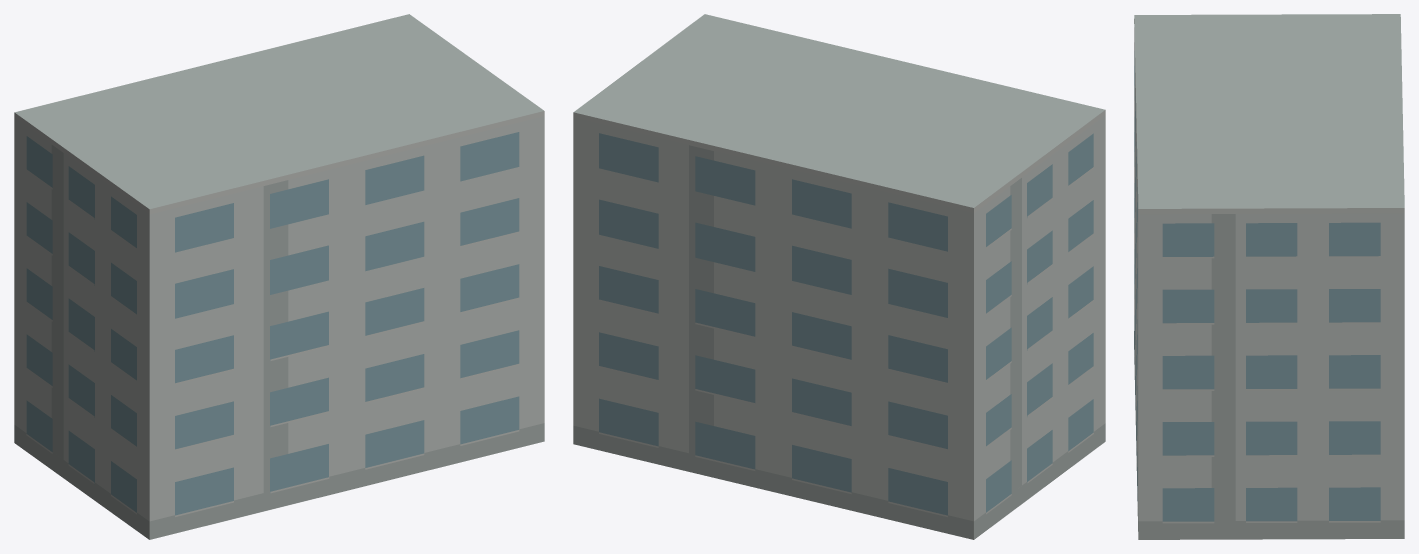
The model's file is residential-f257c5c9-b399-4fb5-b0ae-ed4d9ede7d5a.glb.
The picture shows the model from 3 angles, left to right: view 1: azimuth 30°, elevation 25°; view 2: azimuth 150°, elevation 25°; view 3: azimuth 270°, elevation 25°; orthographic projection.
Visible parts, largest first — view 1: residential-f257c5c9-b399-4fb5-b0ae-ed4d9ede7d5a.tmp; view 2: residential-f257c5c9-b399-4fb5-b0ae-ed4d9ede7d5a.tmp; view 3: residential-f257c5c9-b399-4fb5-b0ae-ed4d9ede7d5a.tmp.
Boxes of the visible parts, x1,y1,x2,y2 form: residential-f257c5c9-b399-4fb5-b0ae-ed4d9ede7d5a.tmp: (14, 14, 544, 539); residential-f257c5c9-b399-4fb5-b0ae-ed4d9ede7d5a.tmp: (573, 14, 1105, 539); residential-f257c5c9-b399-4fb5-b0ae-ed4d9ede7d5a.tmp: (1134, 14, 1404, 539).
Size of the model in its own units: 19.28 by 15.25 by 11.31.
